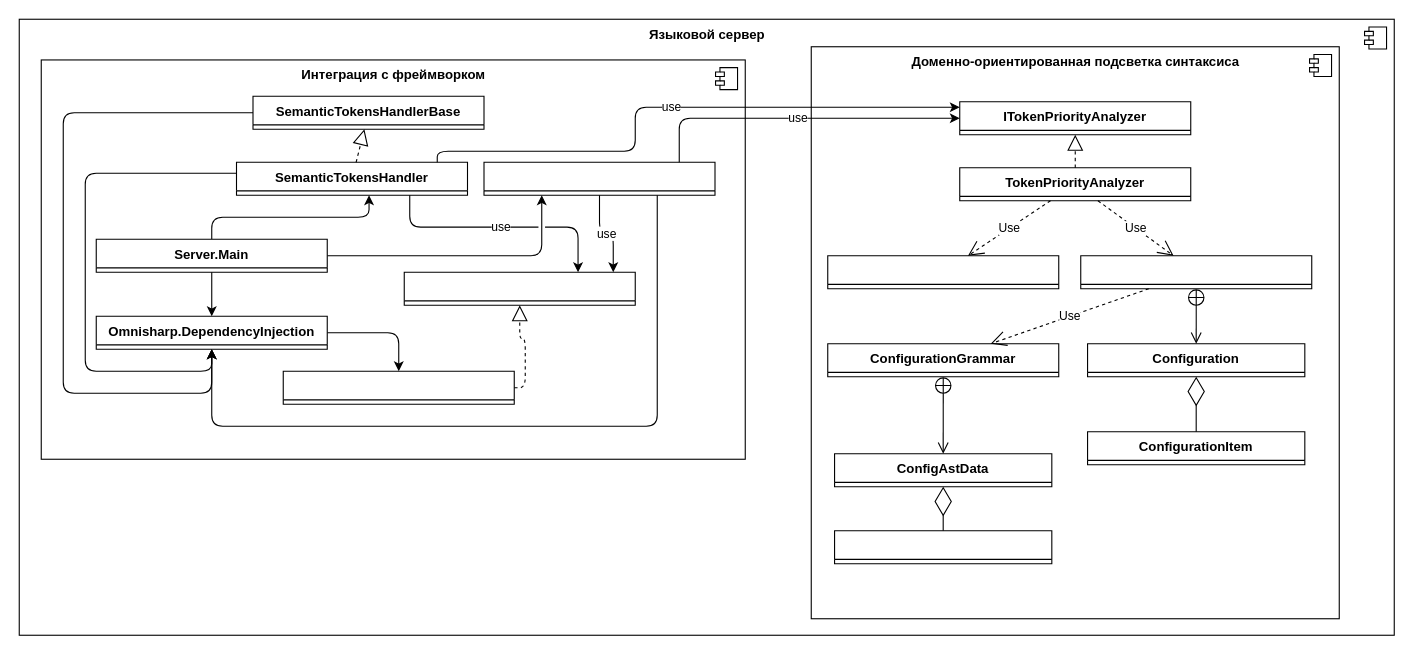
Image size: 1414x655. Some labels were removed from this diagram. Here are the shapes that lost their labels. From the top down, the centre of each, then its label:
At point 599,178: "ConfigurationUpdateHandler".
At point 519,288: "ILogger".
At point 943,272: "HierarchicalAnalysis".
At point 1196,272: "ConfigurationProcessing".
At point 398,387: "Serilig.Log.Logger".
At point 942,547: "Statement".
